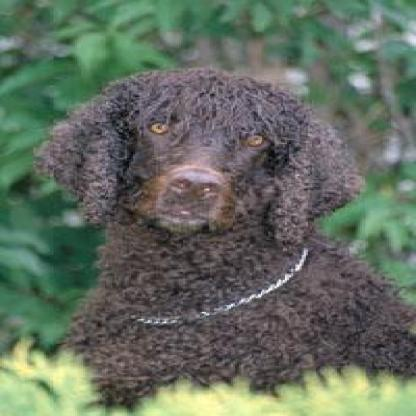Irish_water_spaniel: (34, 60, 412, 414)
